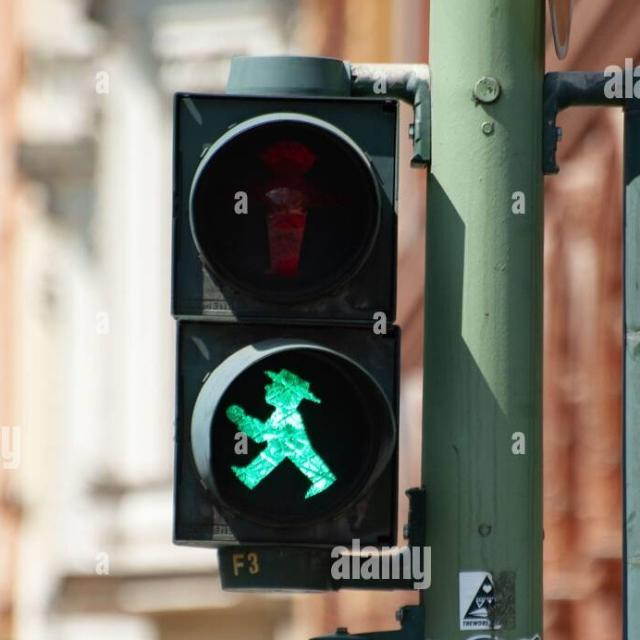green-light: (220, 366, 350, 512)
